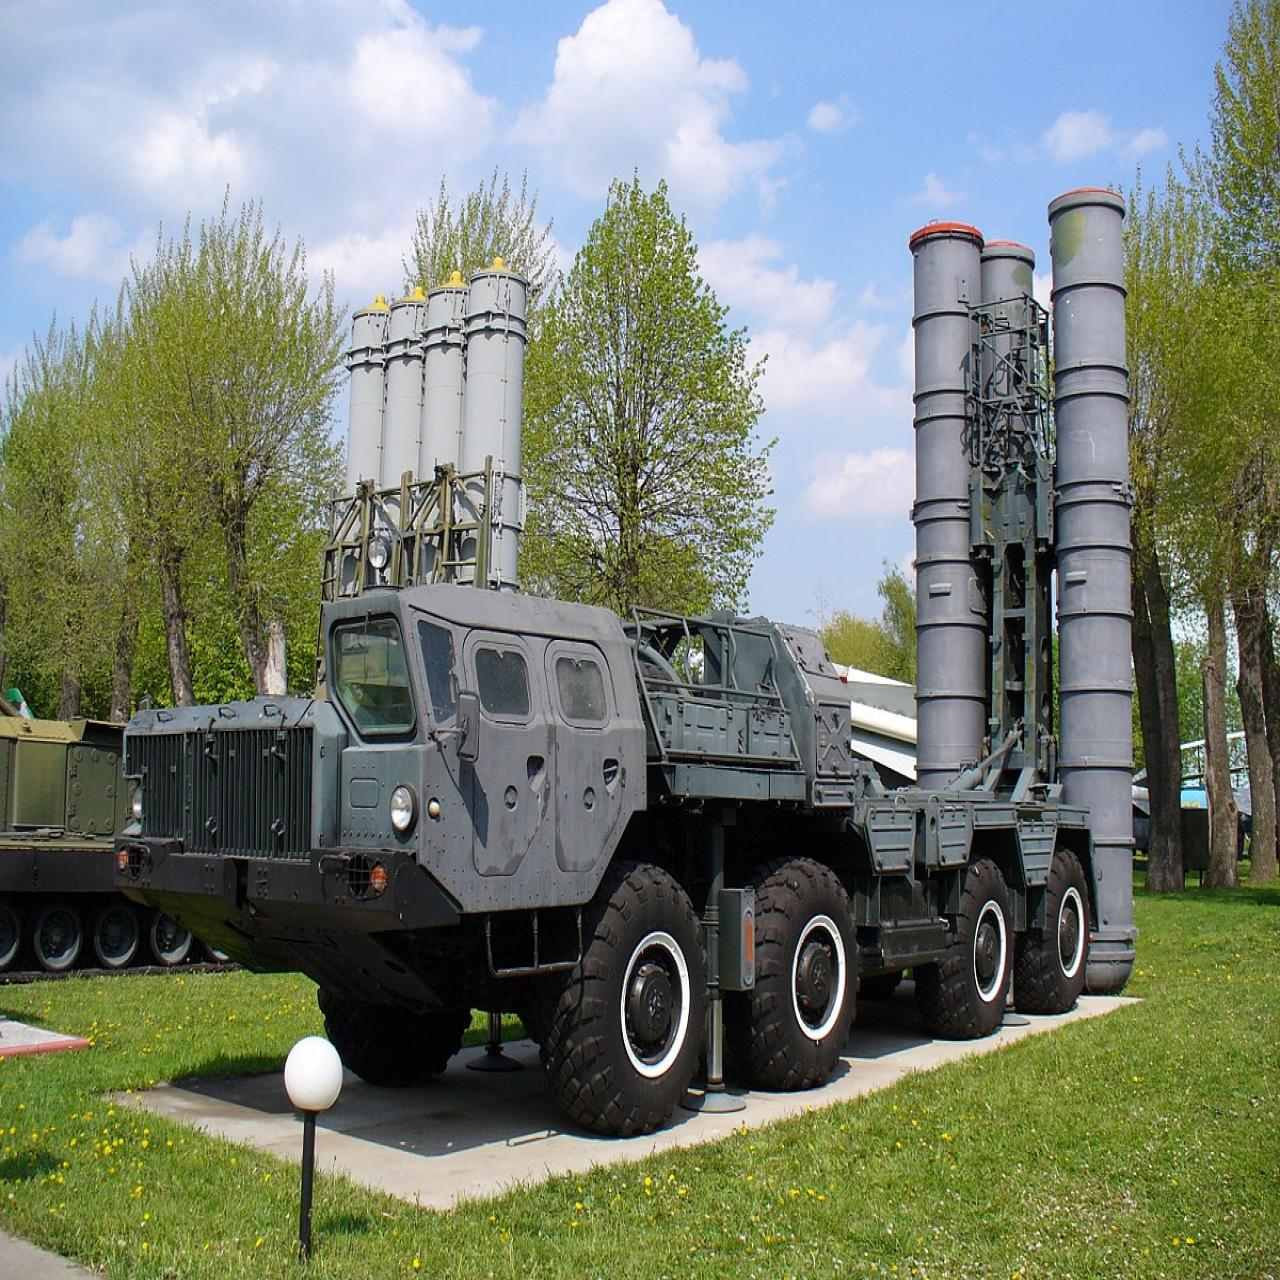MIL_Veh: (124, 189, 1136, 1139)
